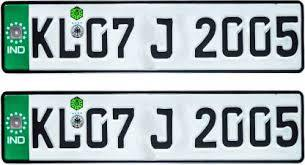0: (248, 105, 272, 148), (221, 106, 245, 149), (248, 15, 272, 58), (85, 107, 109, 149), (220, 16, 244, 58), (85, 17, 108, 59)
2: (194, 106, 218, 149), (194, 17, 218, 59)
5: (274, 15, 300, 57), (275, 106, 300, 147)
7: (111, 107, 136, 149), (111, 16, 135, 59)
J: (149, 15, 175, 59), (148, 107, 174, 149)
K: (31, 107, 55, 150), (31, 17, 55, 59)
L: (58, 107, 82, 149), (57, 17, 81, 59)
